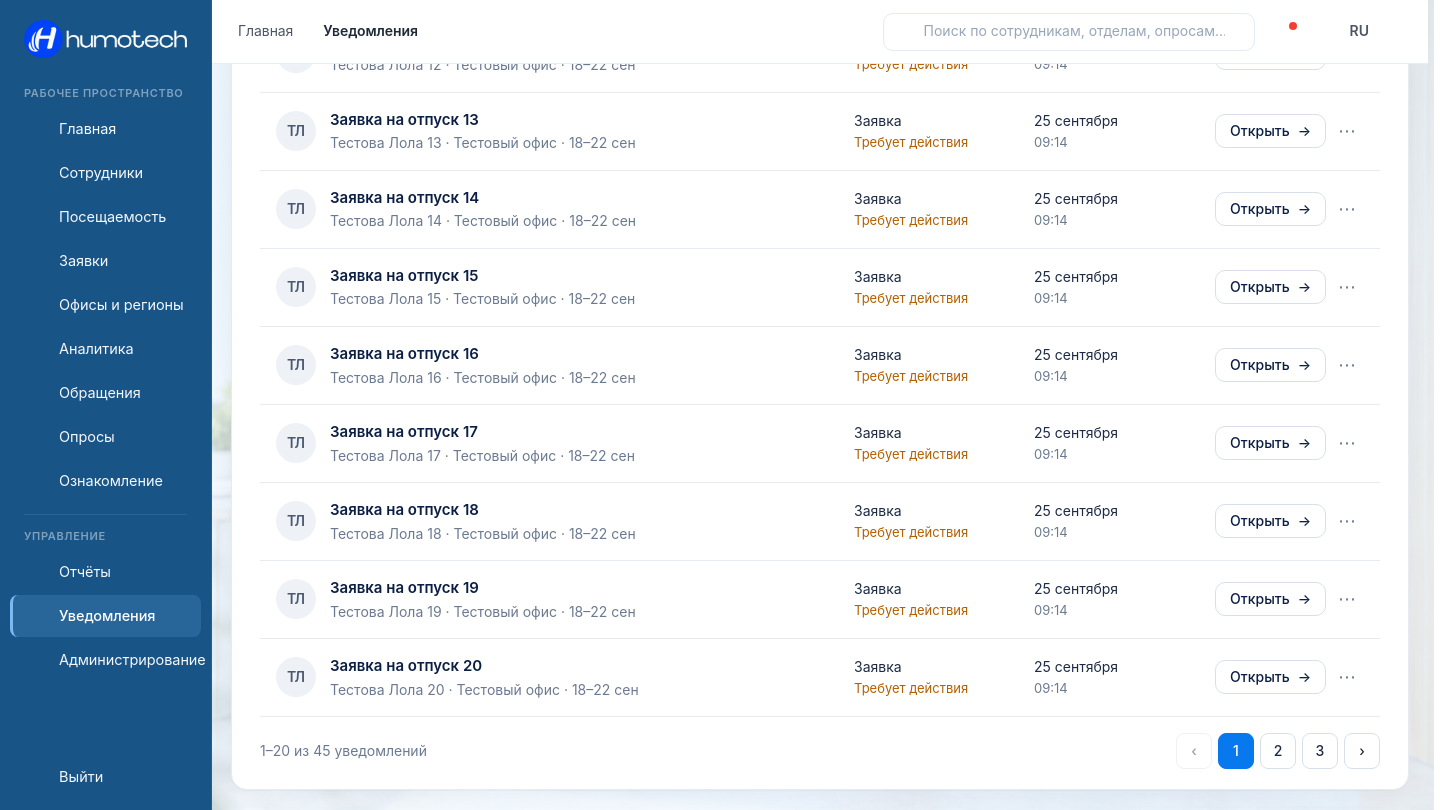
Test case: лента событий › следующая страница идёт по курсору сервера
The width and height of the screenshot is (1440, 810).
(page scrolled)
Click the button named "Следующая страница" at [1362, 751], box [1344,733,1380,769]
(page scrolled)
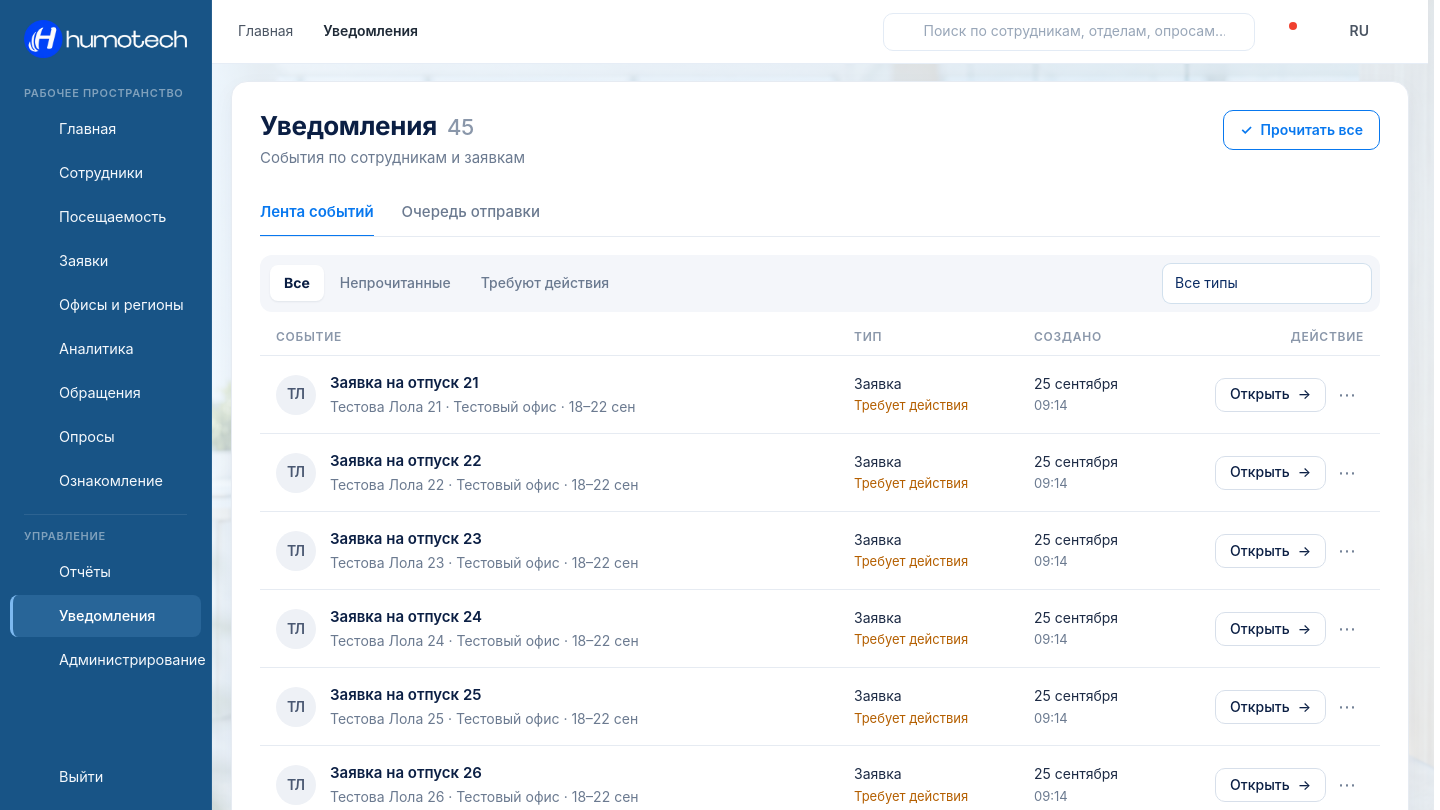
Expected: the text "Заявка на отпуск 21" is shown, [330,372,479,394]
